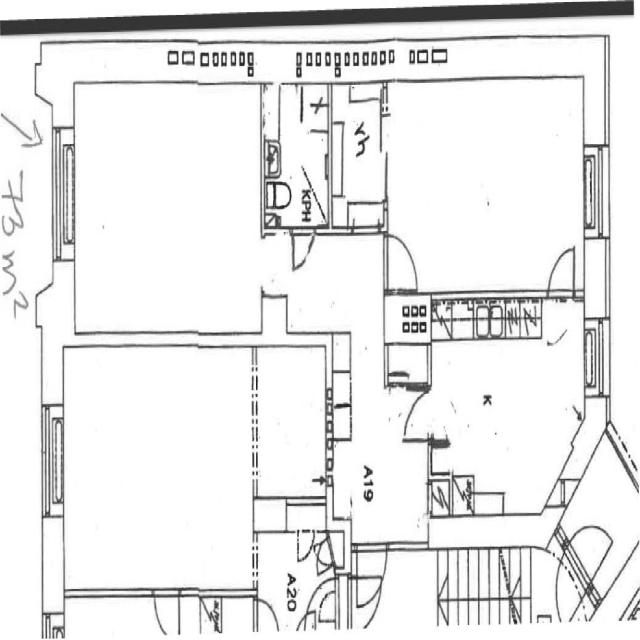door: (350, 539, 387, 632), (138, 581, 191, 640), (382, 224, 424, 294), (397, 384, 435, 446), (544, 238, 580, 300), (287, 225, 316, 276), (253, 594, 284, 636), (293, 524, 318, 568)
window: (50, 119, 79, 270), (37, 396, 68, 526), (582, 140, 612, 245), (581, 314, 612, 405), (380, 533, 430, 557)
zone: (68, 77, 265, 342), (55, 343, 259, 597), (385, 76, 586, 296), (426, 313, 585, 525), (0, 39, 53, 298), (254, 340, 331, 510), (328, 425, 431, 550), (265, 81, 331, 231), (255, 523, 337, 635), (329, 78, 386, 235), (383, 293, 432, 388)
